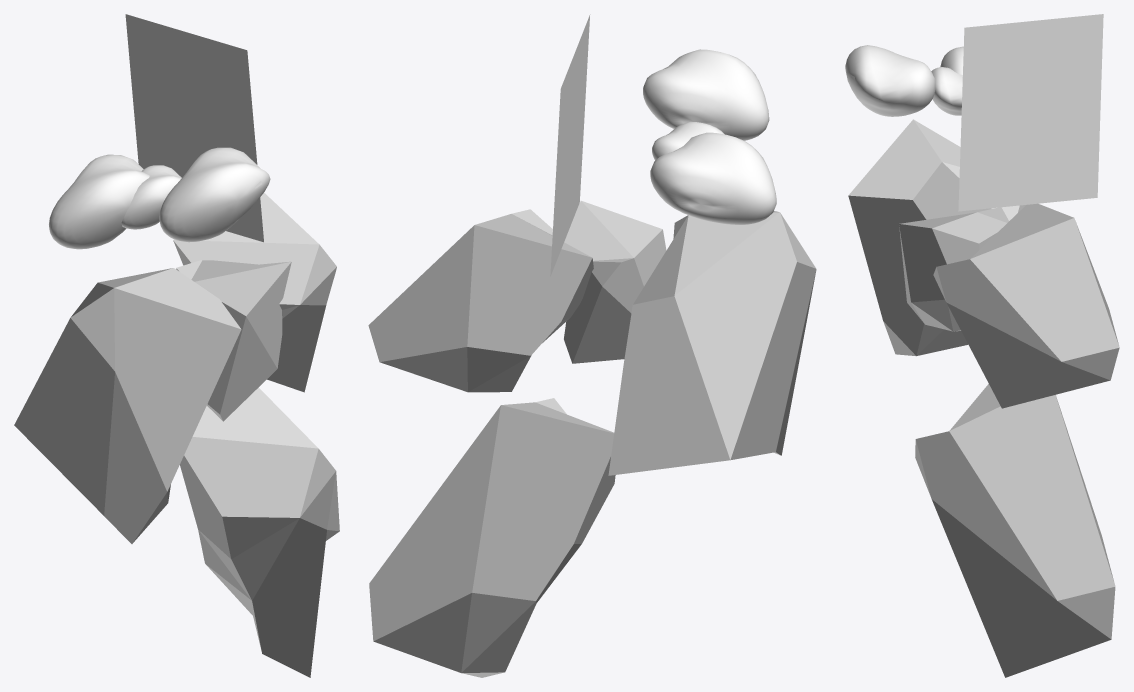
File: pottedTree_02.fbx
3 renders of one model, left to right at view 1: azimuth 30°, elevation 25°; view 2: azimuth 150°, elevation 25°; view 3: azimuth 270°, elevation 25°, orthographic. The views are drawn at different scales.
Parts seen in each view (by area): view 1: LowPolyRock_05 (49), LowPolyRock_05 (48), Tree_trunk1 (7), LowPolyRock_05 (29), LowPolyRock_05 (31), Sphere (33), Sphere (32), Sphere (31); view 2: LowPolyRock_05 (48), LowPolyRock_05 (49), LowPolyRock_05 (29), LowPolyRock_05 (31), Sphere (32), Sphere (33), Tree_trunk1 (7), Sphere (31); view 3: LowPolyRock_05 (48), Tree_trunk1 (7), LowPolyRock_05 (29), LowPolyRock_05 (49), LowPolyRock_05 (31), Sphere (33), Sphere (31), Sphere (32).
Part boxes in pixels (x1=…): LowPolyRock_05 (49): x1=14, y1=268, x2=241, y2=543; LowPolyRock_05 (48): x1=180, y1=387, x2=339, y2=677; Tree_trunk1 (7): x1=125, y1=14, x2=263, y2=242; LowPolyRock_05 (29): x1=173, y1=193, x2=336, y2=392; LowPolyRock_05 (31): x1=176, y1=260, x2=291, y2=421; Sphere (33): x1=159, y1=147, x2=270, y2=242; Sphere (32): x1=49, y1=154, x2=149, y2=249; Sphere (31): x1=121, y1=165, x2=181, y2=229; LowPolyRock_05 (48): x1=369, y1=398, x2=615, y2=677; LowPolyRock_05 (49): x1=608, y1=211, x2=816, y2=475; LowPolyRock_05 (29): x1=368, y1=209, x2=593, y2=392; LowPolyRock_05 (31): x1=564, y1=200, x2=666, y2=363; Sphere (32): x1=650, y1=132, x2=776, y2=224; Sphere (33): x1=643, y1=49, x2=769, y2=140; Tree_trunk1 (7): x1=550, y1=14, x2=590, y2=276; Sphere (31): x1=652, y1=122, x2=724, y2=160; LowPolyRock_05 (48): x1=915, y1=384, x2=1115, y2=677; Tree_trunk1 (7): x1=958, y1=14, x2=1103, y2=211; LowPolyRock_05 (29): x1=933, y1=203, x2=1119, y2=408; LowPolyRock_05 (49): x1=848, y1=119, x2=1025, y2=356; LowPolyRock_05 (31): x1=899, y1=207, x2=1008, y2=331; Sphere (33): x1=845, y1=45, x2=935, y2=116; Sphere (31): x1=931, y1=67, x2=962, y2=115; Sphere (32): x1=940, y1=46, x2=963, y2=74.
Bounding box in the file's own units: 5.5 × 10.45 × 4.25.
Materials: 3 (1 with a texture image).
